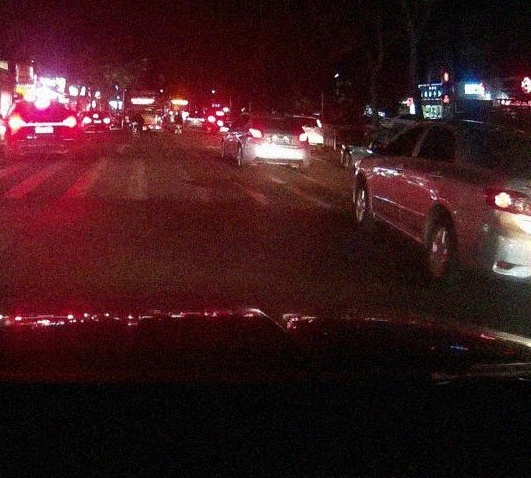L_light: (8, 117, 26, 128), (248, 128, 263, 138)
R_light: (63, 116, 77, 127), (298, 133, 308, 142)
T_light: (35, 102, 49, 107), (269, 118, 279, 121)
night-left: (6, 100, 78, 158)
night-no: (247, 113, 311, 171)
